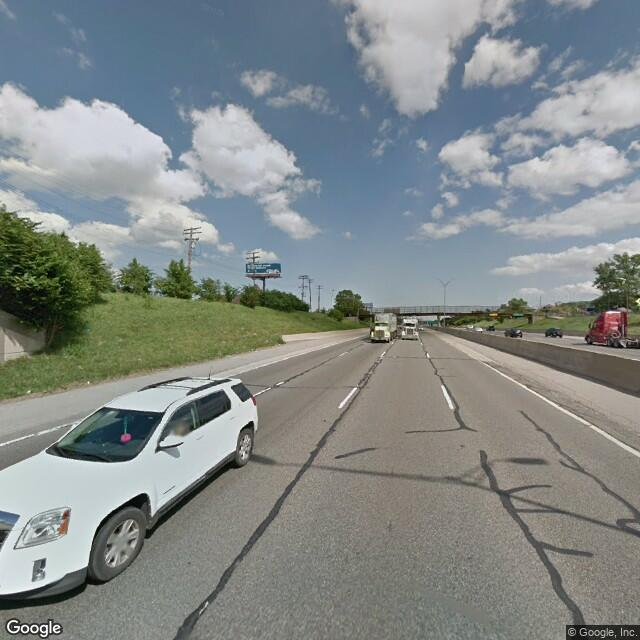litter: (79, 377, 96, 386), (25, 383, 34, 397)
